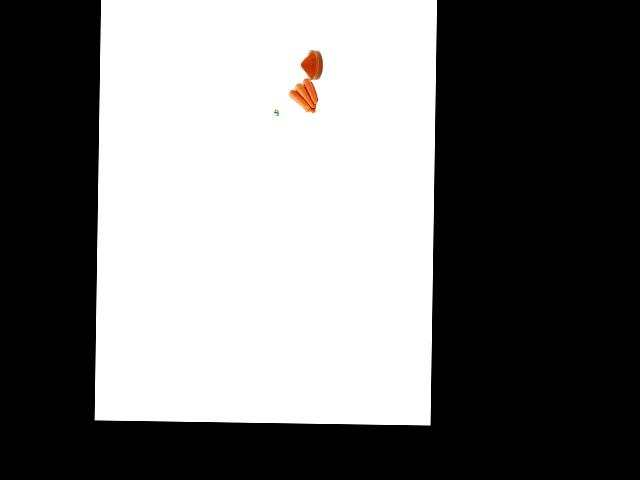carrot: (303, 78, 320, 105)
